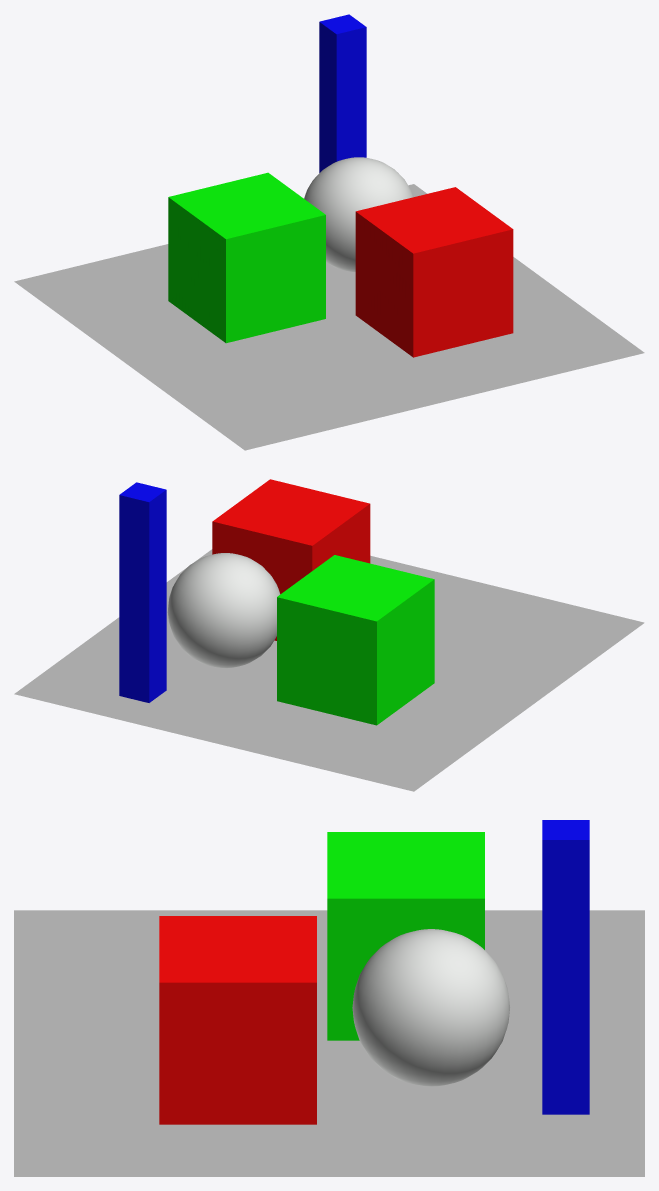
3 renders of one model, top to bottom at view 1: azimuth 30°, elevation 25°; view 2: azimuth 150°, elevation 25°; view 3: azimuth 270°, elevation 25°, orthographic. The views are drawn at different scales.
Parts seen in each view (by area): view 1: Plane, Cube, Cube.001, Cube.002, Sphere; view 2: Plane, Cube.001, Cube, Sphere, Cube.002; view 3: Plane, Cube, Cube.001, Sphere, Cube.002.
Boxes of the visible parts, left/top/right/bottom form: Plane: left=14, top=184, right=644, bottom=450; Cube: left=355, top=187, right=513, bottom=357; Cube.001: left=168, top=172, right=325, bottom=343; Cube.002: left=319, top=14, right=366, bottom=172; Sphere: left=304, top=157, right=413, bottom=272; Plane: left=14, top=549, right=644, bottom=791; Cube.001: left=277, top=555, right=434, bottom=725; Cube: left=212, top=479, right=370, bottom=640; Sphere: left=167, top=553, right=280, bottom=668; Cube.002: left=119, top=482, right=166, bottom=702; Plane: left=14, top=910, right=644, bottom=1176; Cube: left=159, top=916, right=316, bottom=1124; Cube.001: left=327, top=832, right=484, bottom=1040; Sphere: left=352, top=929, right=509, bottom=1086; Cube.002: left=542, top=820, right=589, bottom=1114.
Bounding box in the file's own units: 8 × 3.93 × 8.
